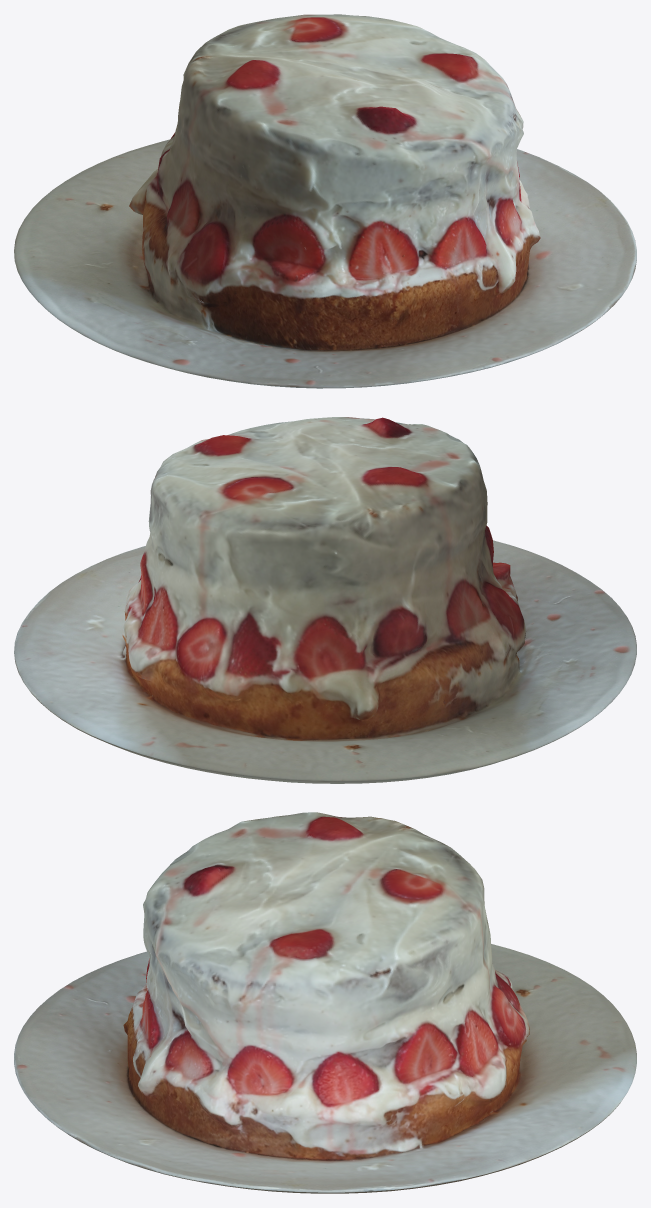
Rendered from strawberry_birthday_cake.glb.
The picture shows the model from 3 angles, top to bottom: view 1: azimuth 30°, elevation 25°; view 2: azimuth 150°, elevation 25°; view 3: azimuth 270°, elevation 25°; orthographic projection.
Visible parts, largest first — view 1: Retopo_3DModel; view 2: Retopo_3DModel; view 3: Retopo_3DModel.
Part boxes in pixels (x1,y1,x2,y2): Retopo_3DModel: (14,14,636,388); Retopo_3DModel: (14,417,636,783); Retopo_3DModel: (14,812,636,1193).
Bounding box in the file's own units: 3.73 × 1.53 × 3.72.
1 material, 1 textured.
